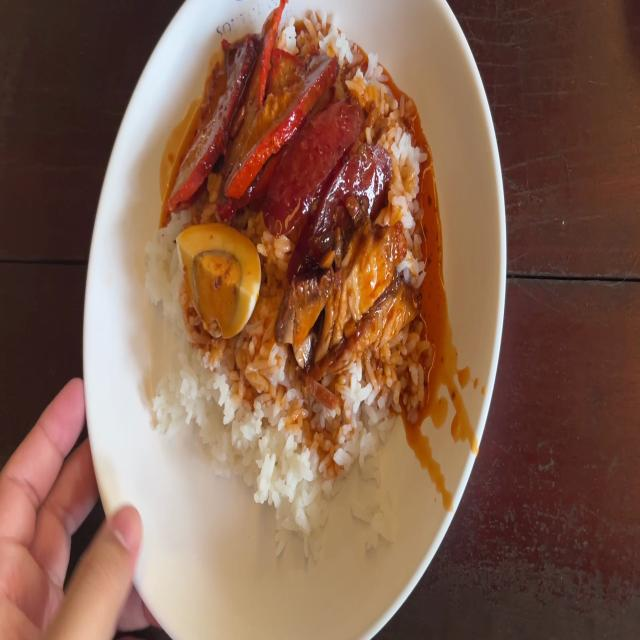01boiled_egg: (170, 219, 256, 336)
01chainese_sausage: (272, 106, 384, 254)
01crispy_pork: (284, 242, 419, 376)
01red_pork: (161, 22, 299, 186)
01red_pork_and_crispy_pork: (151, 12, 426, 521)
01rice: (168, 345, 298, 514), (295, 372, 424, 508)
